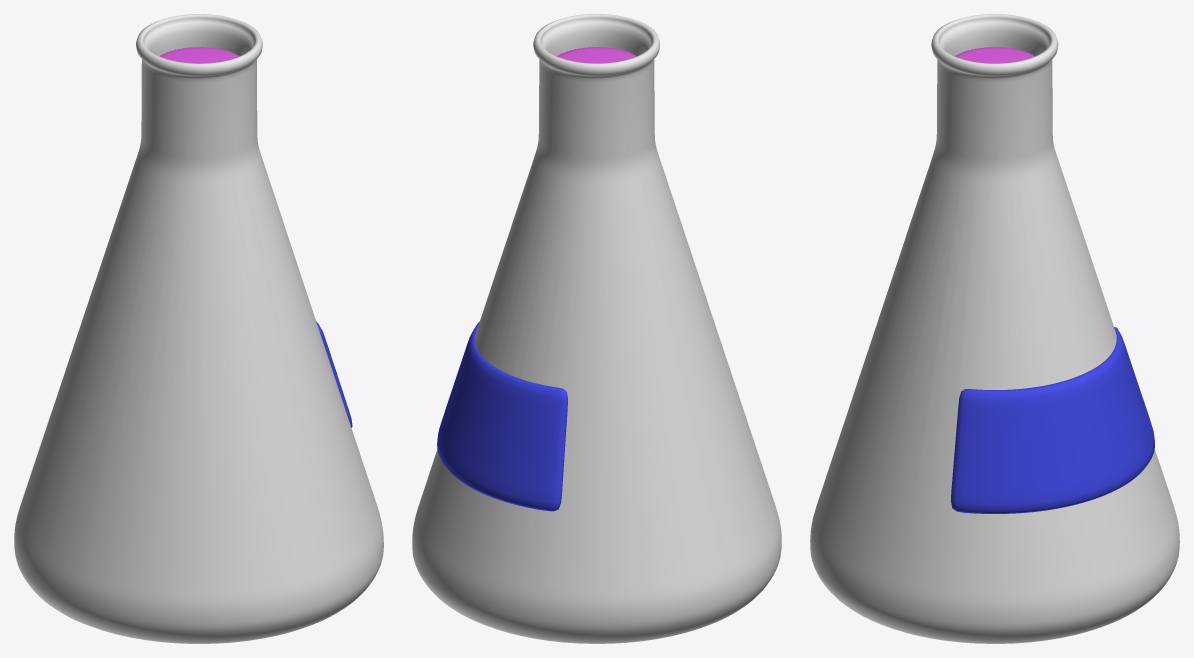
The model's file is correct_erlenmeyer-with-substance.fbx.
The picture shows the model from 3 angles, left to right: view 1: azimuth 30°, elevation 25°; view 2: azimuth 150°, elevation 25°; view 3: azimuth 270°, elevation 25°; orthographic projection.
Parts seen in each view (by area): view 1: Erlenmeyer, Erlenmeyer.002; view 2: Erlenmeyer, Erlenmeyer.003, Erlenmeyer.002; view 3: Erlenmeyer, Erlenmeyer.003, Erlenmeyer.002.
Boxes of the visible parts, left/top/right/bottom form: Erlenmeyer: left=14, top=14, right=383, bottom=643; Erlenmeyer.002: left=160, top=47, right=239, bottom=63; Erlenmeyer: left=412, top=14, right=781, bottom=643; Erlenmeyer.003: left=437, top=321, right=567, bottom=511; Erlenmeyer.002: left=557, top=47, right=636, bottom=63; Erlenmeyer: left=810, top=14, right=1179, bottom=643; Erlenmeyer.003: left=950, top=327, right=1154, bottom=513; Erlenmeyer.002: left=955, top=47, right=1034, bottom=63.
Size of the model in its own units: 198 by 320 by 198.
